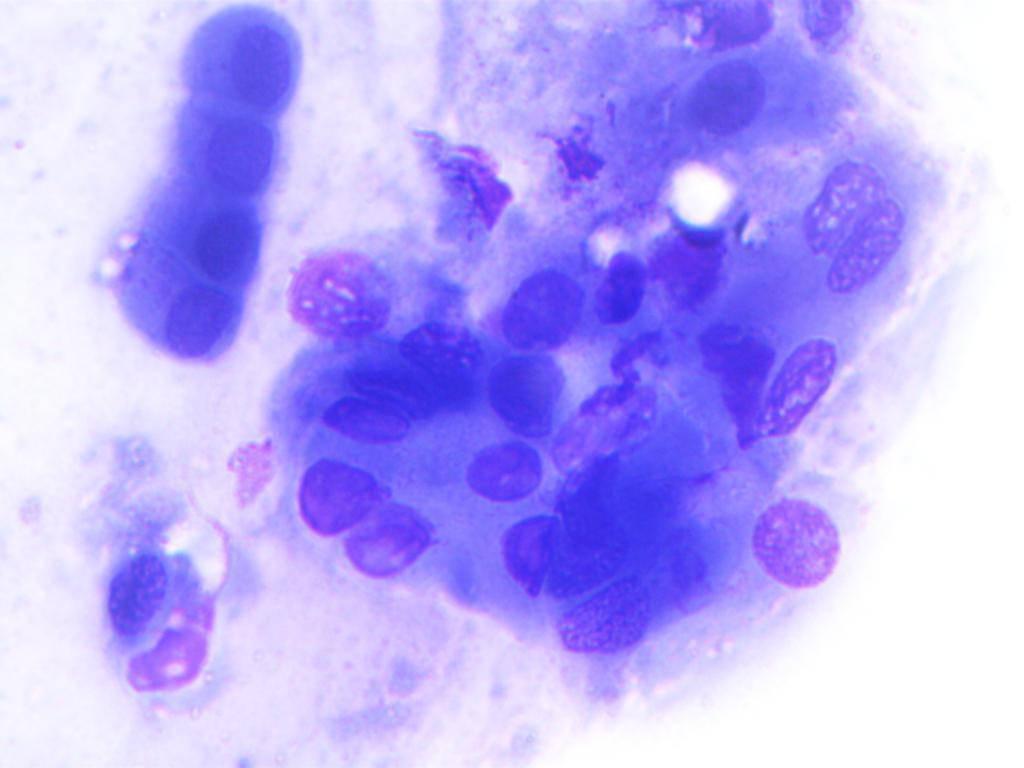epithelial: (793, 162, 909, 296), (534, 582, 680, 682), (740, 489, 853, 596), (120, 594, 223, 702), (748, 336, 854, 434), (489, 508, 597, 603), (292, 437, 384, 544), (289, 250, 396, 340), (339, 502, 434, 581), (323, 390, 436, 456), (394, 314, 500, 382), (101, 538, 167, 645), (464, 434, 547, 504)
metaplastic: (673, 53, 849, 140), (162, 10, 303, 107), (145, 193, 266, 280), (124, 269, 238, 352), (161, 109, 277, 188), (489, 260, 579, 355), (589, 229, 657, 338), (480, 350, 571, 429)
